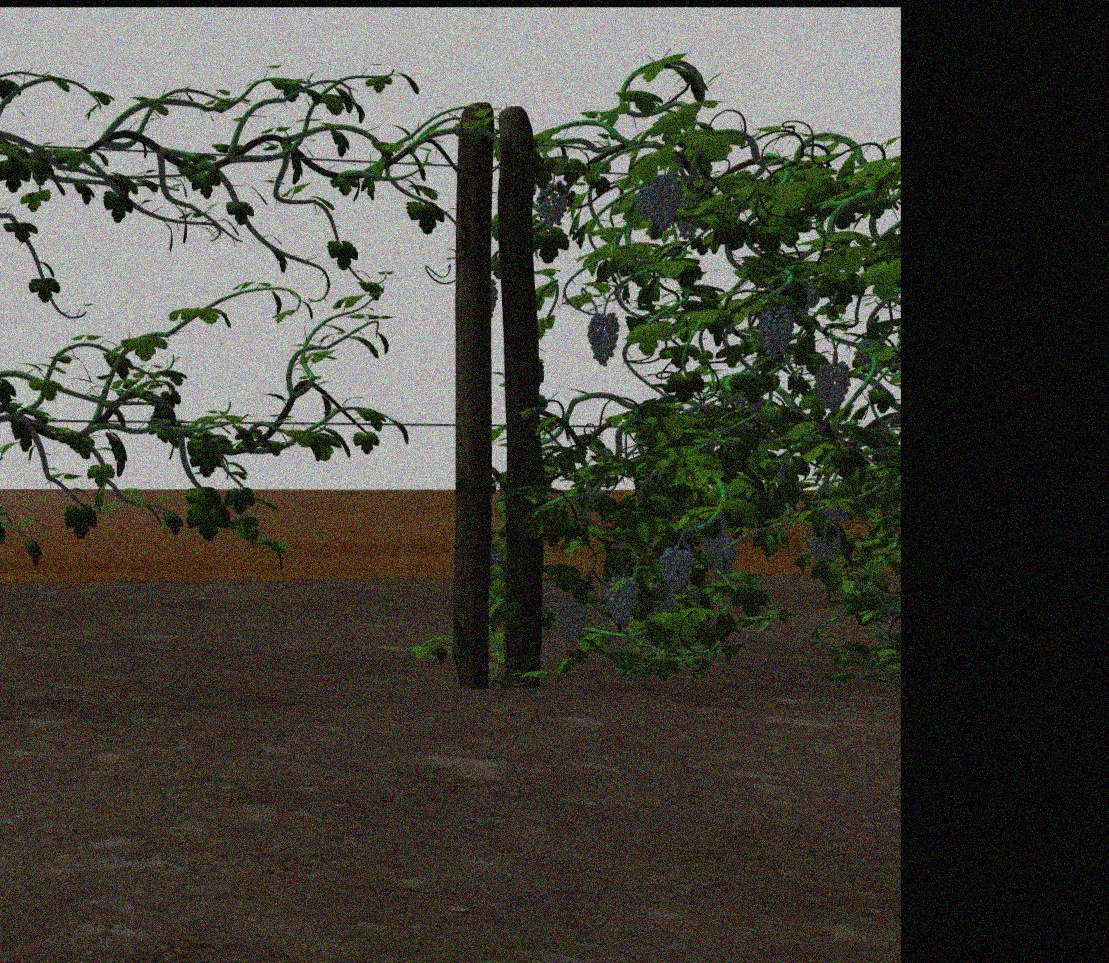grape: (633, 175, 683, 234), (756, 305, 794, 360), (604, 576, 641, 630), (812, 360, 850, 412), (587, 311, 620, 368), (659, 545, 695, 594), (556, 595, 588, 645), (703, 528, 738, 571), (537, 182, 569, 229), (807, 523, 839, 563)
